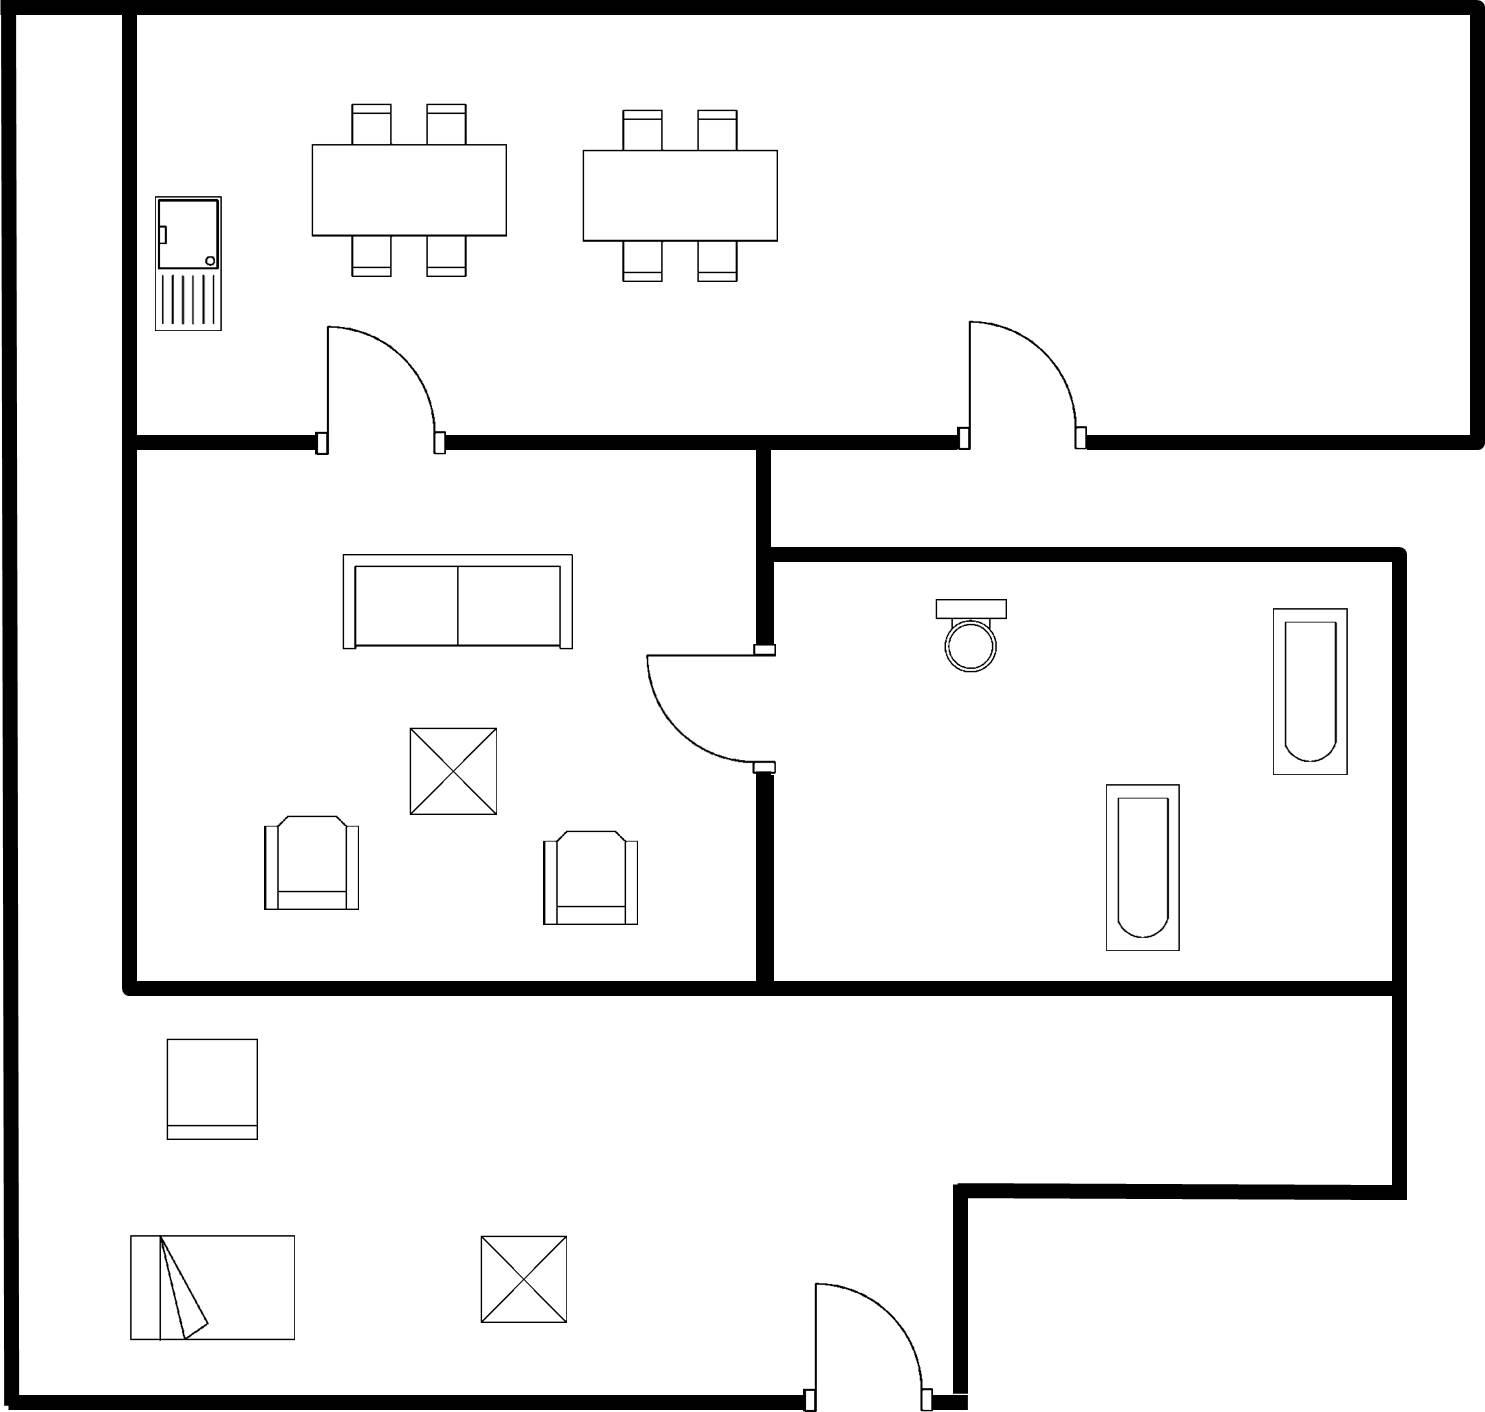bed: (115, 1222, 306, 1354)
dining_table: (569, 95, 792, 293), (298, 93, 520, 290)
sink: (145, 186, 237, 339)
sofa: (324, 545, 583, 664)
toilet: (920, 587, 1020, 683)
tub: (1093, 773, 1192, 961), (1260, 601, 1355, 784)
